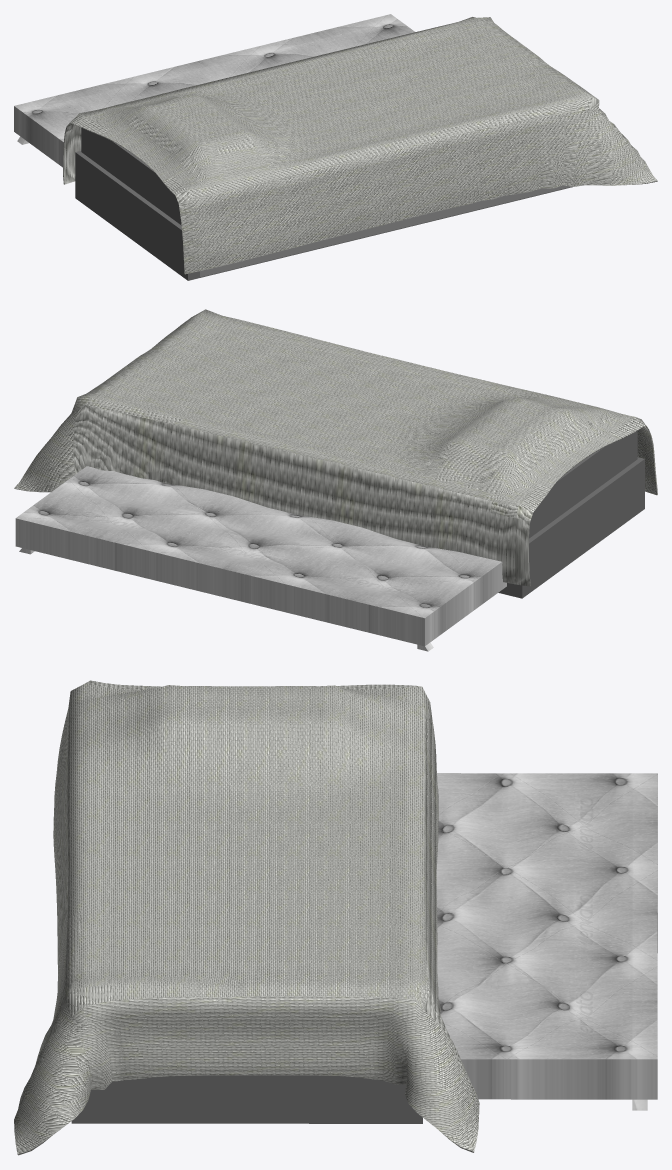
The model's file is cama.glb.
3 renders of one model, top to bottom at view 1: azimuth 30°, elevation 25°; view 2: azimuth 150°, elevation 25°; view 3: azimuth 270°, elevation 25°, orthographic. The views are drawn at different scales.
Parts seen in each view (by area): view 1: pCube5_BlanketTexture_0; view 2: pCube5_BlanketTexture_0; view 3: pCube5_BlanketTexture_0.
Boxes of the visible parts, bbox=[...] form: pCube5_BlanketTexture_0: bbox=[14, 14, 657, 280]; pCube5_BlanketTexture_0: bbox=[14, 309, 657, 651]; pCube5_BlanketTexture_0: bbox=[14, 680, 657, 1155].
Bounding box in the file's own units: 16.95 × 3.64 × 13.15.
Materials: 3 (2 with a texture image).
